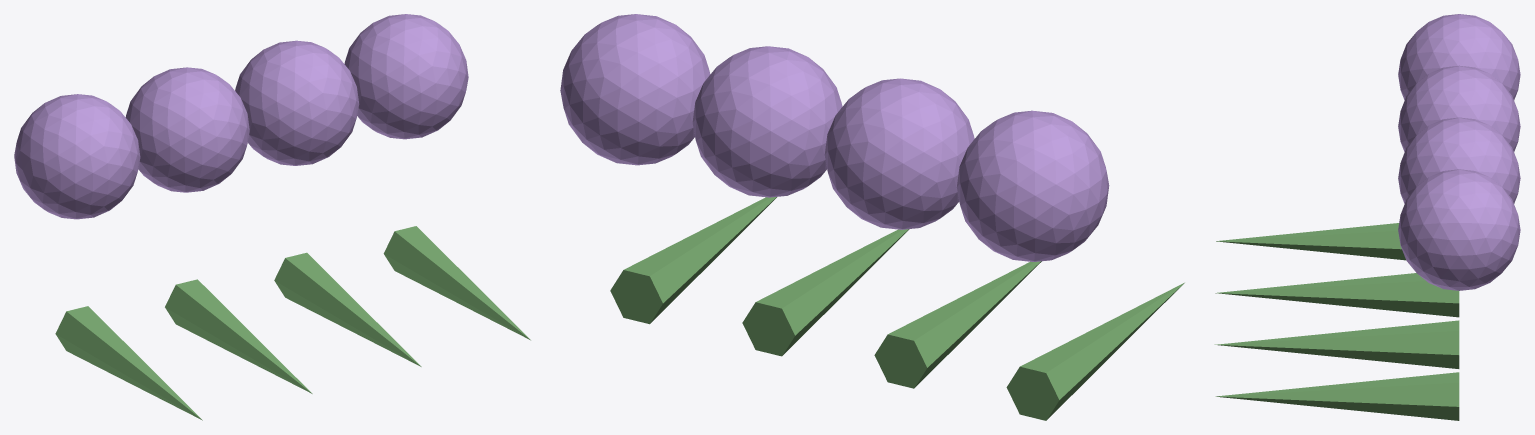
File: flower_var_2.glb
3 renders of one model, left to right at view 1: azimuth 30°, elevation 25°; view 2: azimuth 150°, elevation 25°; view 3: azimuth 270°, elevation 25°, orthographic. The views are drawn at different scales.
Visible parts, largest first — view 1: world; view 2: world; view 3: world.
Boxes of the visible parts, x1,y1,x2,y2 form: world: (14, 14, 530, 420); world: (560, 14, 1184, 420); world: (1214, 14, 1520, 420).
Bounding box in the file's own units: 0.4 × 0.2173 × 0.25.
